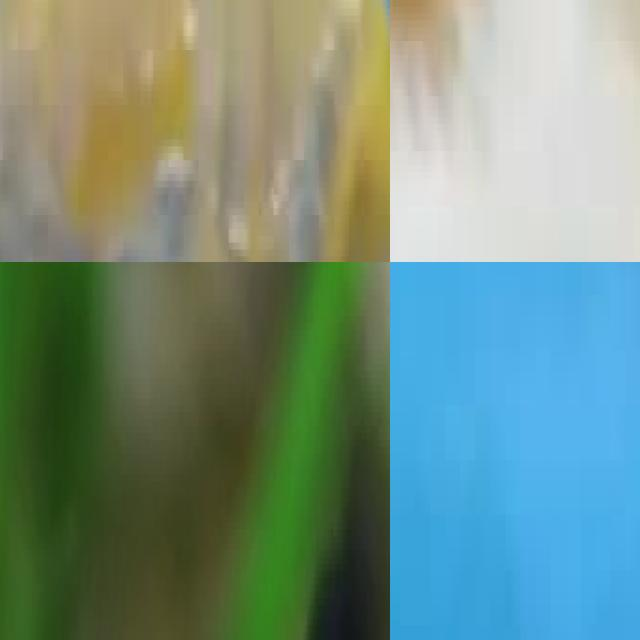fish: (0, 0, 390, 262), (260, 323, 390, 640)
